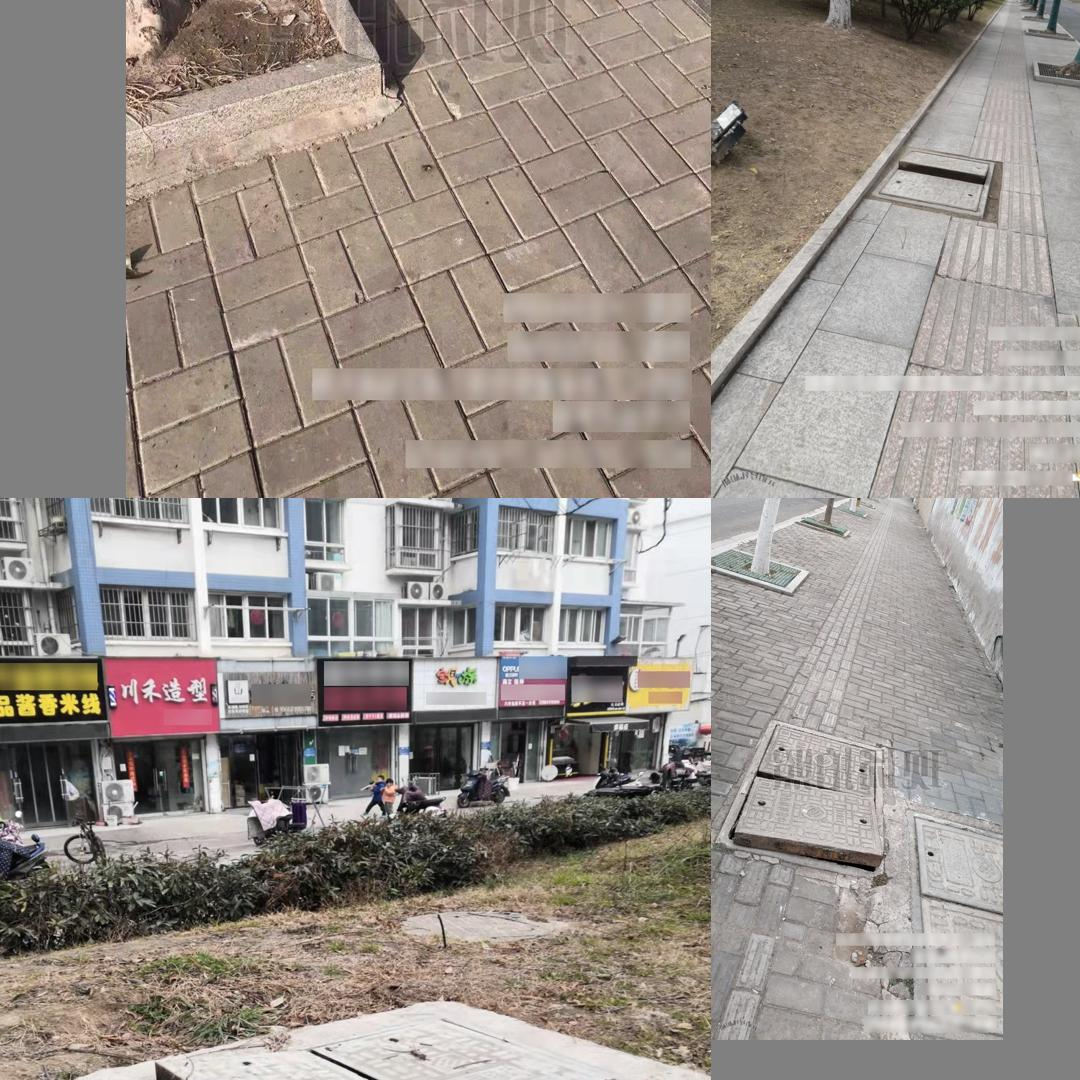good: (901, 811, 999, 1040)
uncovered: (157, 1008, 619, 1080), (713, 719, 886, 876), (873, 148, 998, 219)
